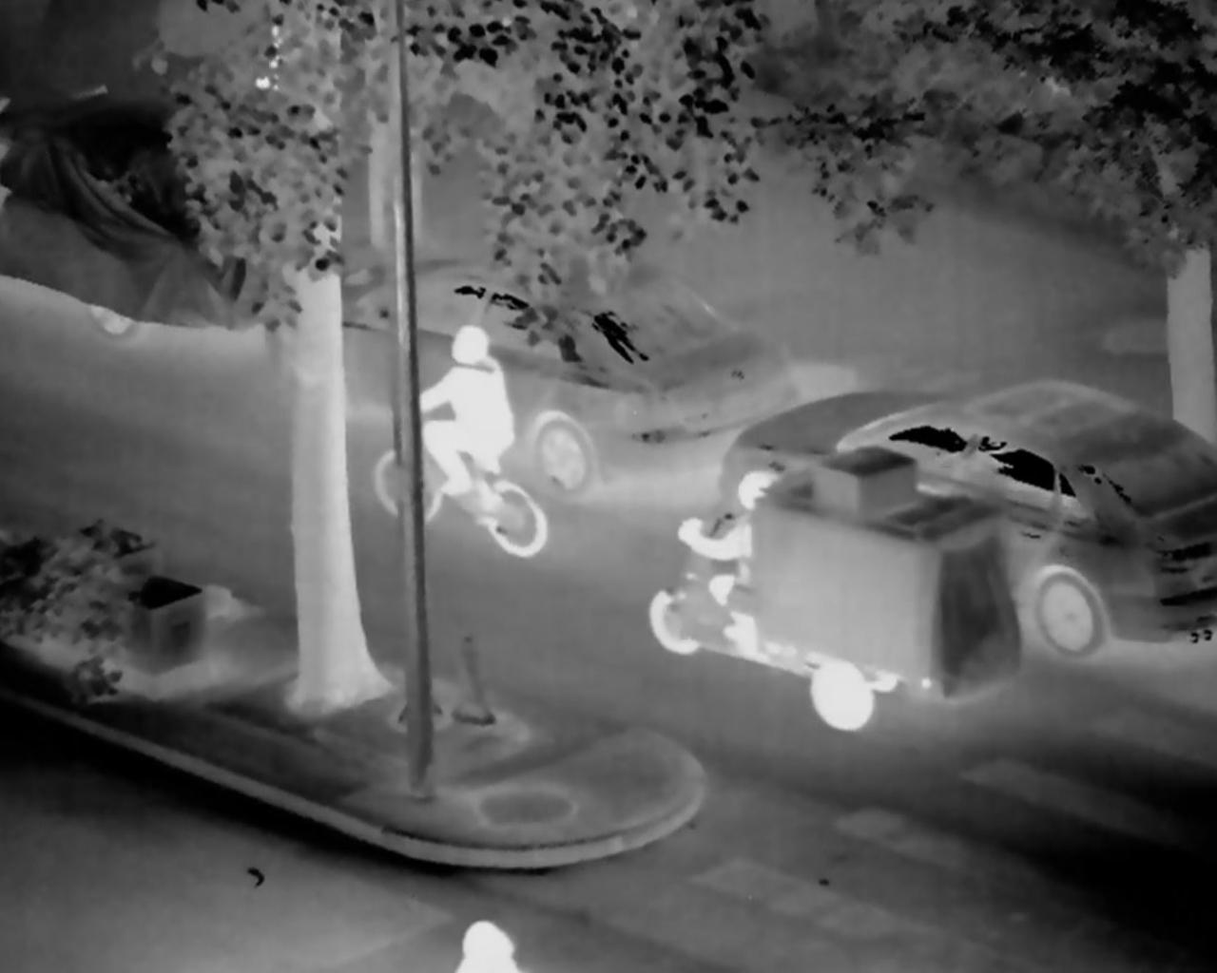person: (408, 324, 527, 525), (677, 468, 773, 649), (456, 913, 519, 973)
